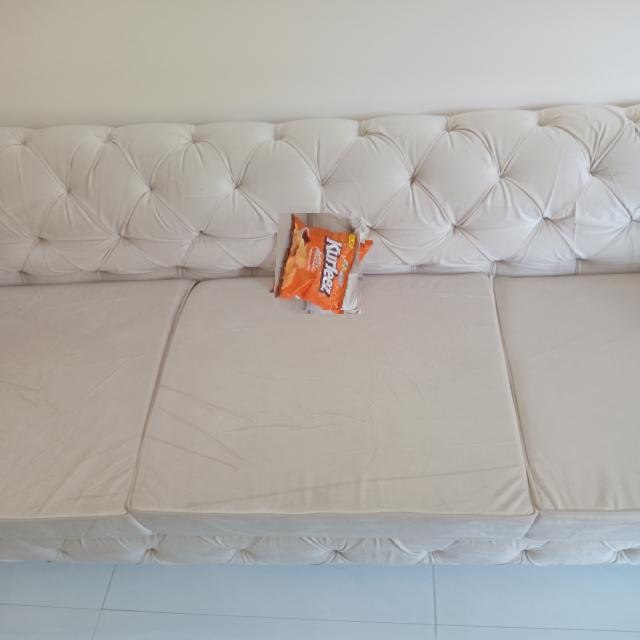Plastic: (273, 218, 366, 310)
